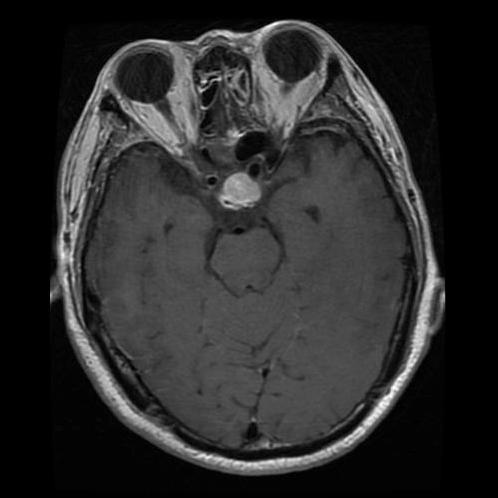Tumour-Pituitary: (215, 168, 264, 214)
